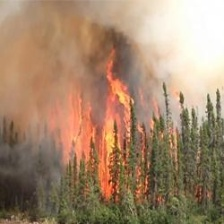fire: (53, 50, 180, 203)
smoke: (1, 10, 98, 154)
